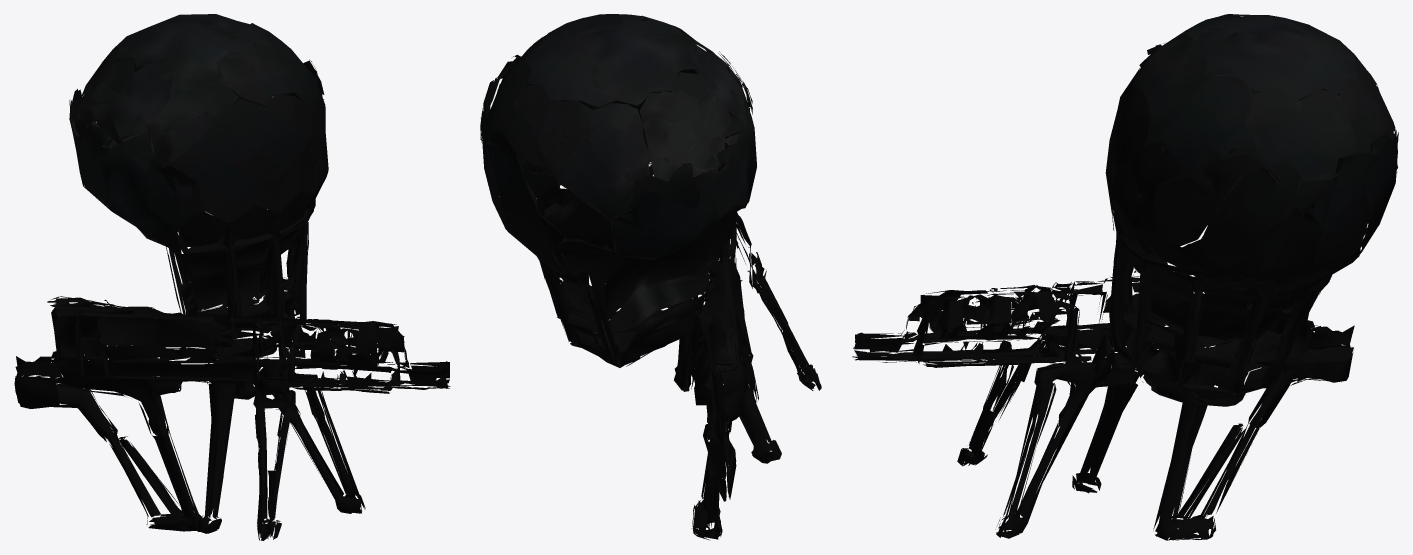
Rendered from coronet-dome-tower.lo.glb.
3 views of the same model, side by side, from view 1: azimuth 30°, elevation 25°; view 2: azimuth 150°, elevation 25°; view 3: azimuth 270°, elevation 25° (orthographic). The views are drawn at different scales.
Visible parts, largest first — view 1: low; view 2: low; view 3: low.
Boxes of the visible parts, <box> form: low: <box>14,14,450,540</box>; low: <box>480,14,821,540</box>; low: <box>852,14,1398,540</box>.
Bounding box in the file's own units: 0.5155 × 0.9086 × 0.834.
1 material, 1 textured.
